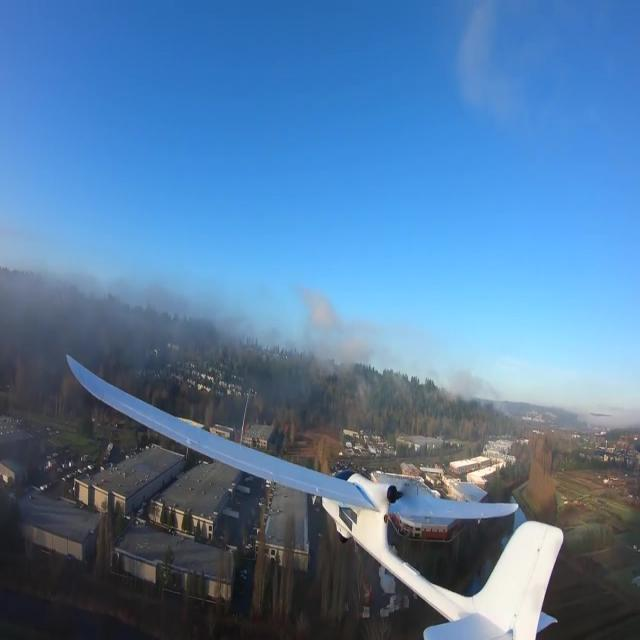iha: (63, 351, 567, 640)
